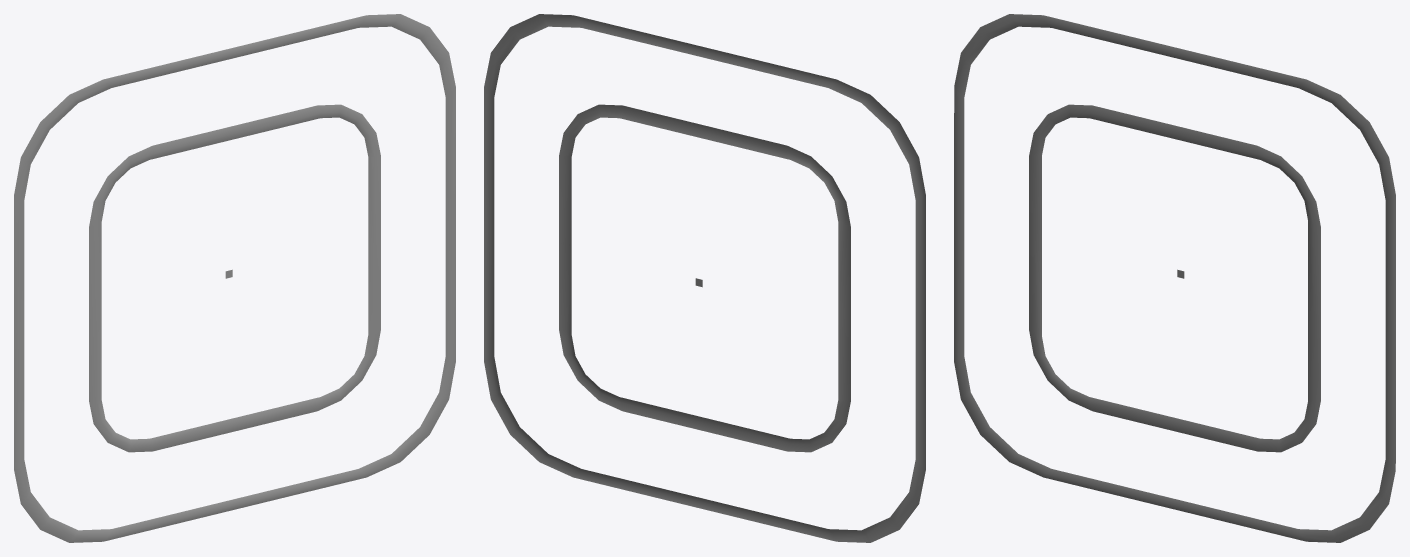
File: MeshPan_4_0_GeomSubset_2.obj
The picture shows the model from 3 angles, left to right: view 1: azimuth 30°, elevation 25°; view 2: azimuth 150°, elevation 25°; view 3: azimuth 330°, elevation 25°; orthographic projection.
Parts seen in each view (by area): view 1: MeshPan_4_0_GeomSubset_2; view 2: MeshPan_4_0_GeomSubset_2; view 3: MeshPan_4_0_GeomSubset_2.
Boxes of the visible parts, x1,y1,x2,y2 form: MeshPan_4_0_GeomSubset_2: [14, 14, 455, 542]; MeshPan_4_0_GeomSubset_2: [484, 14, 925, 542]; MeshPan_4_0_GeomSubset_2: [954, 14, 1395, 542].
Size of the model in its own units: 0.1783 by 0.1783 by 0.00462.
